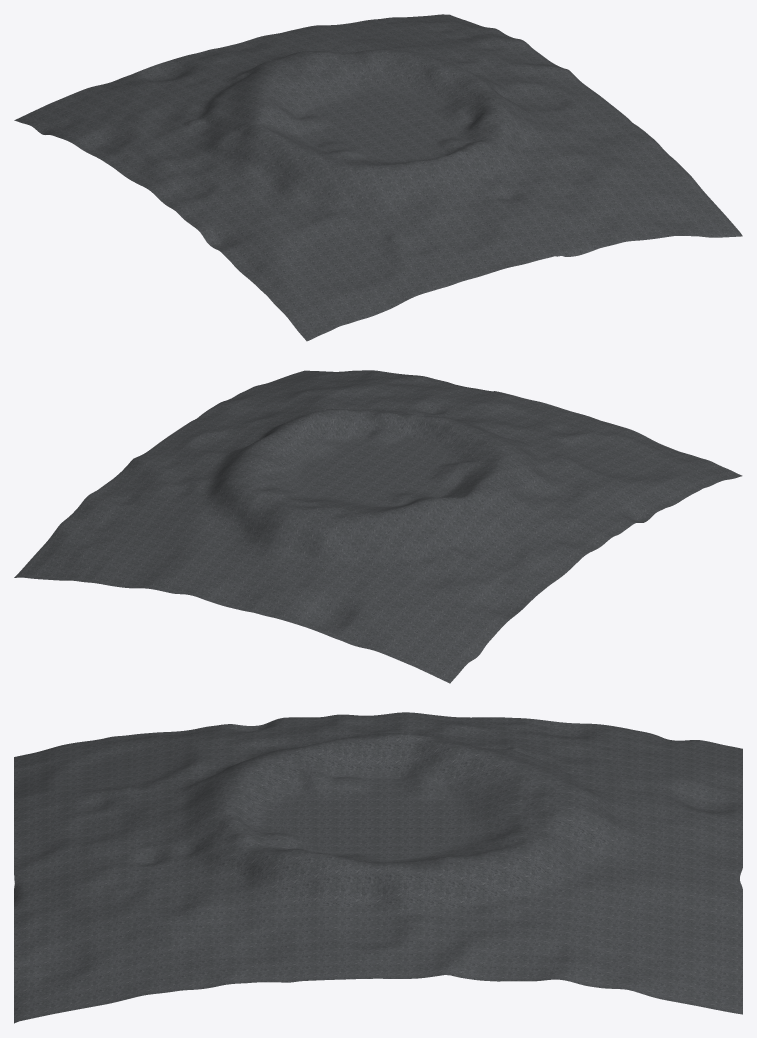
The model's file is SpaceStation_D_Ground.fbx.
3 renders of one model, top to bottom at view 1: azimuth 30°, elevation 25°; view 2: azimuth 150°, elevation 25°; view 3: azimuth 270°, elevation 25°, orthographic. The views are drawn at different scales.
Visible parts, largest first — view 1: SpaceStation_D_Ground; view 2: SpaceStation_D_Ground; view 3: SpaceStation_D_Ground.
Boxes of the visible parts, x1,y1,x2,y2 form: SpaceStation_D_Ground: (14, 14, 742, 341); SpaceStation_D_Ground: (14, 370, 742, 683); SpaceStation_D_Ground: (14, 712, 742, 1023).
Bounding box in the file's own units: 1.2e+07 × 1966980 × 1.4e+07.
